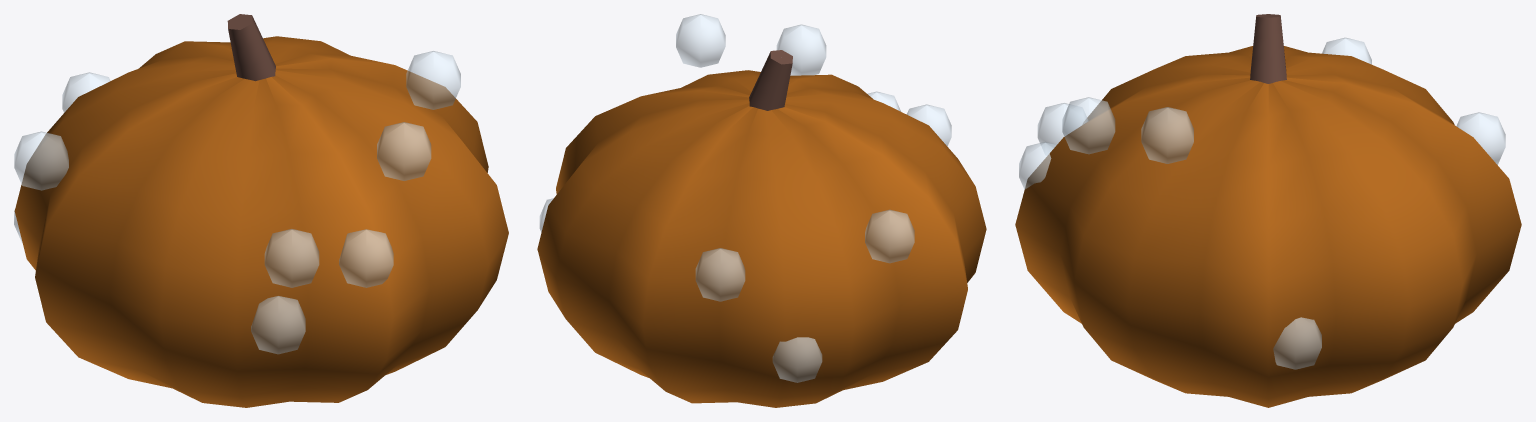
Rendered from fruit-pumpkin-wet.gltf.
3 renders of one model, left to right at view 1: azimuth 30°, elevation 25°; view 2: azimuth 150°, elevation 25°; view 3: azimuth 270°, elevation 25°, orthographic. The views are drawn at different scales.
Bounding box in the file's own units: 1.09 × 0.826 × 1.08.
